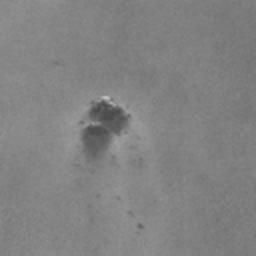Iron sheet ash: (82, 96, 132, 161)
